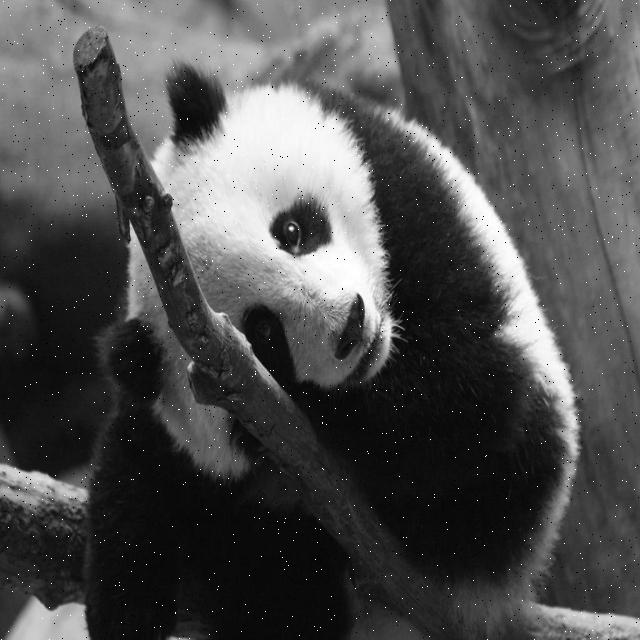panda: (82, 51, 584, 640)
